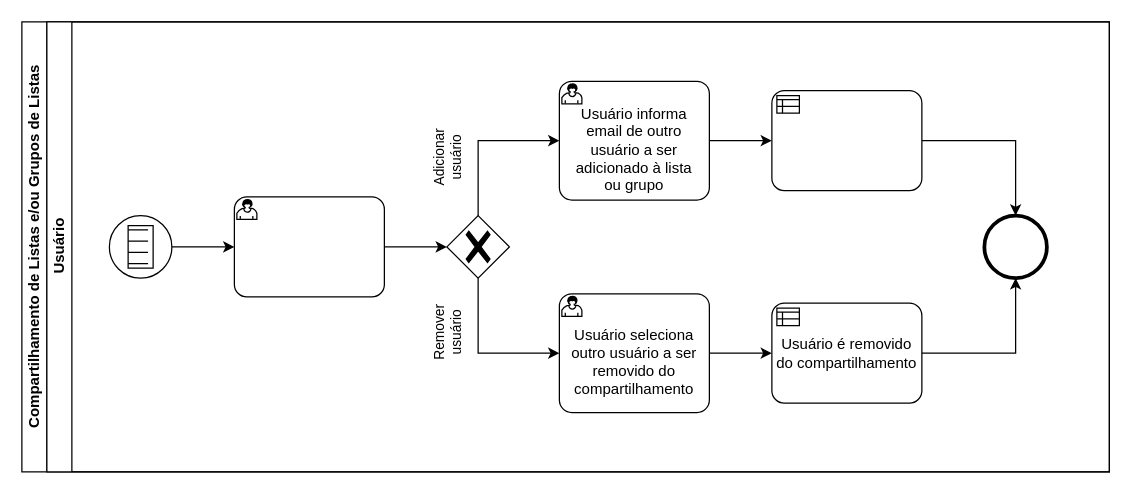
This 1131x494 diagram has some shape labels left out. The shapes that lost their labels are listed below. From the top down, each one's centre as x and y in pixels, then its label:
At pixel 846 140: "Usuário é adicionado à lista ou grupo".
At pixel 140 246: "O usuário tem uma lista ou grupo de listas criado".
At pixel 308 246: "Usuário deseja gerenciar o compartilhamento".
